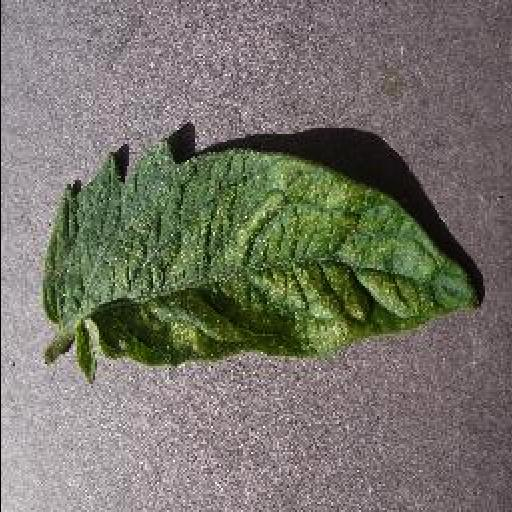disease_tomato: (42, 143, 482, 368)
